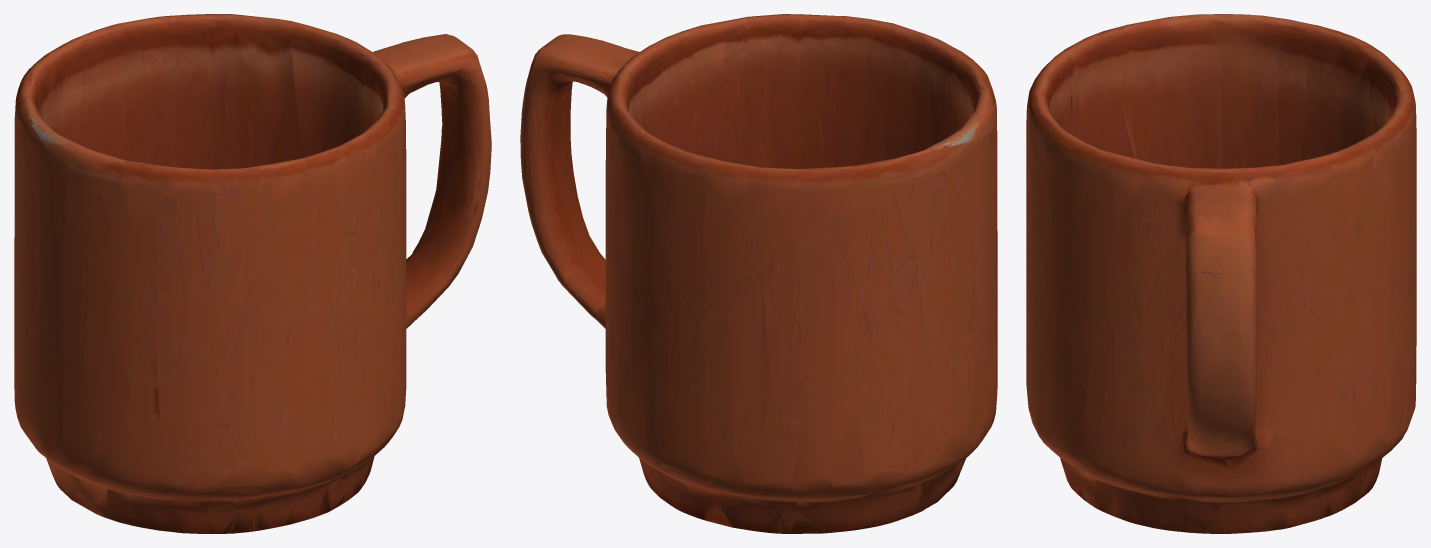
The model's file is mug.glb.
3 renders of one model, left to right at view 1: azimuth 30°, elevation 25°; view 2: azimuth 150°, elevation 25°; view 3: azimuth 270°, elevation 25°, orthographic.
Bounding box in the file's own units: 1.9 × 1.55 × 1.46.
Materials: 1 (1 with a texture image).
